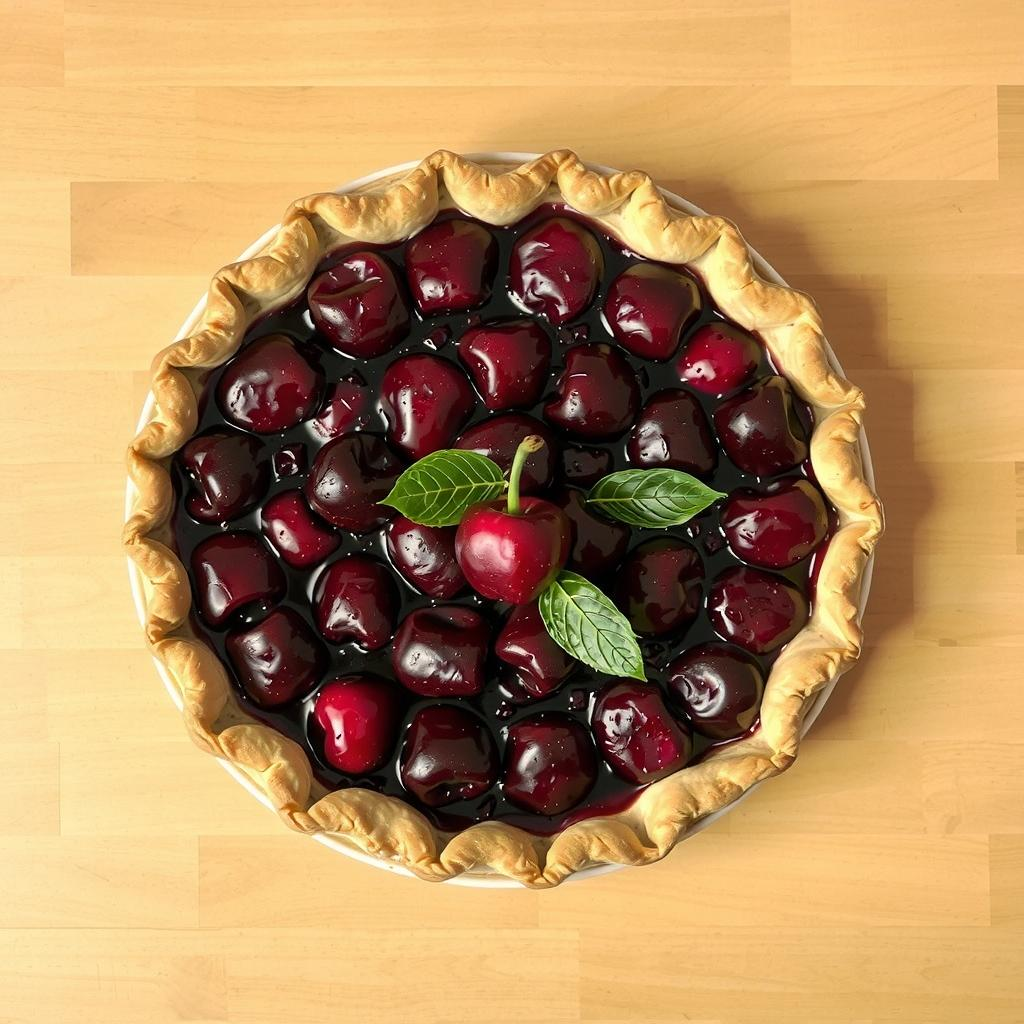pie: (117, 143, 889, 893)
